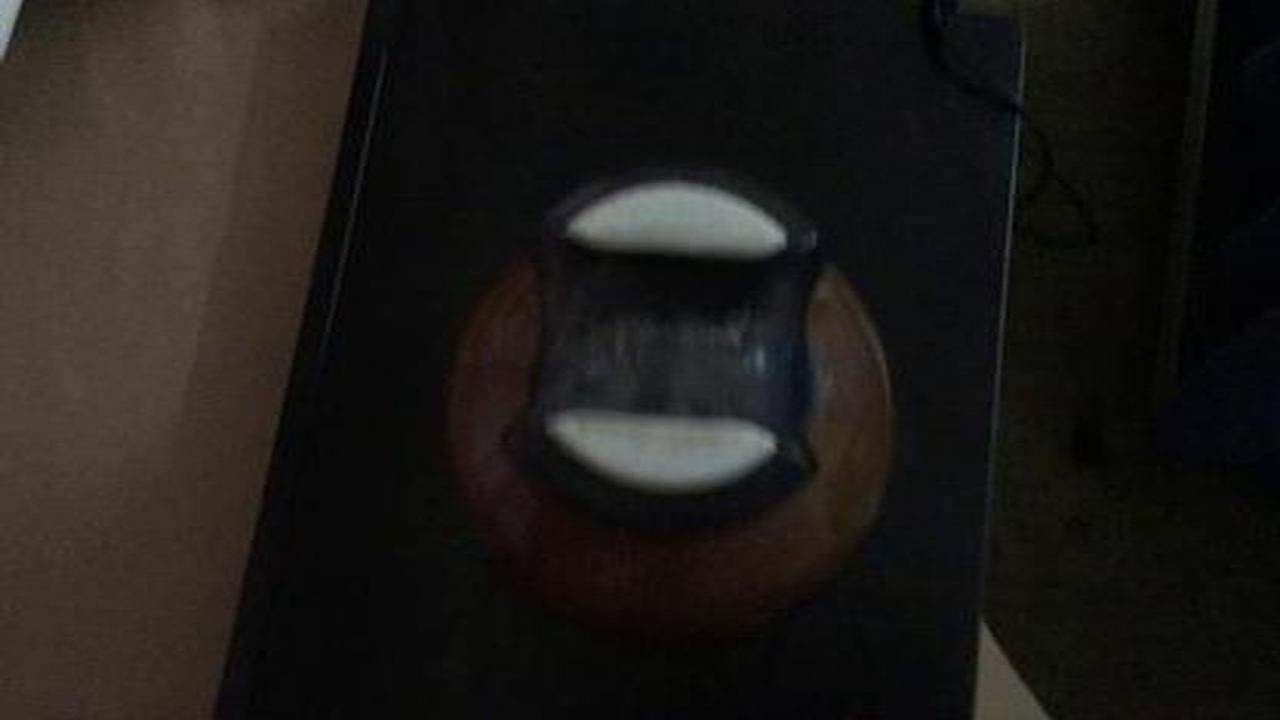insulator_pin: (407, 155, 951, 644)
